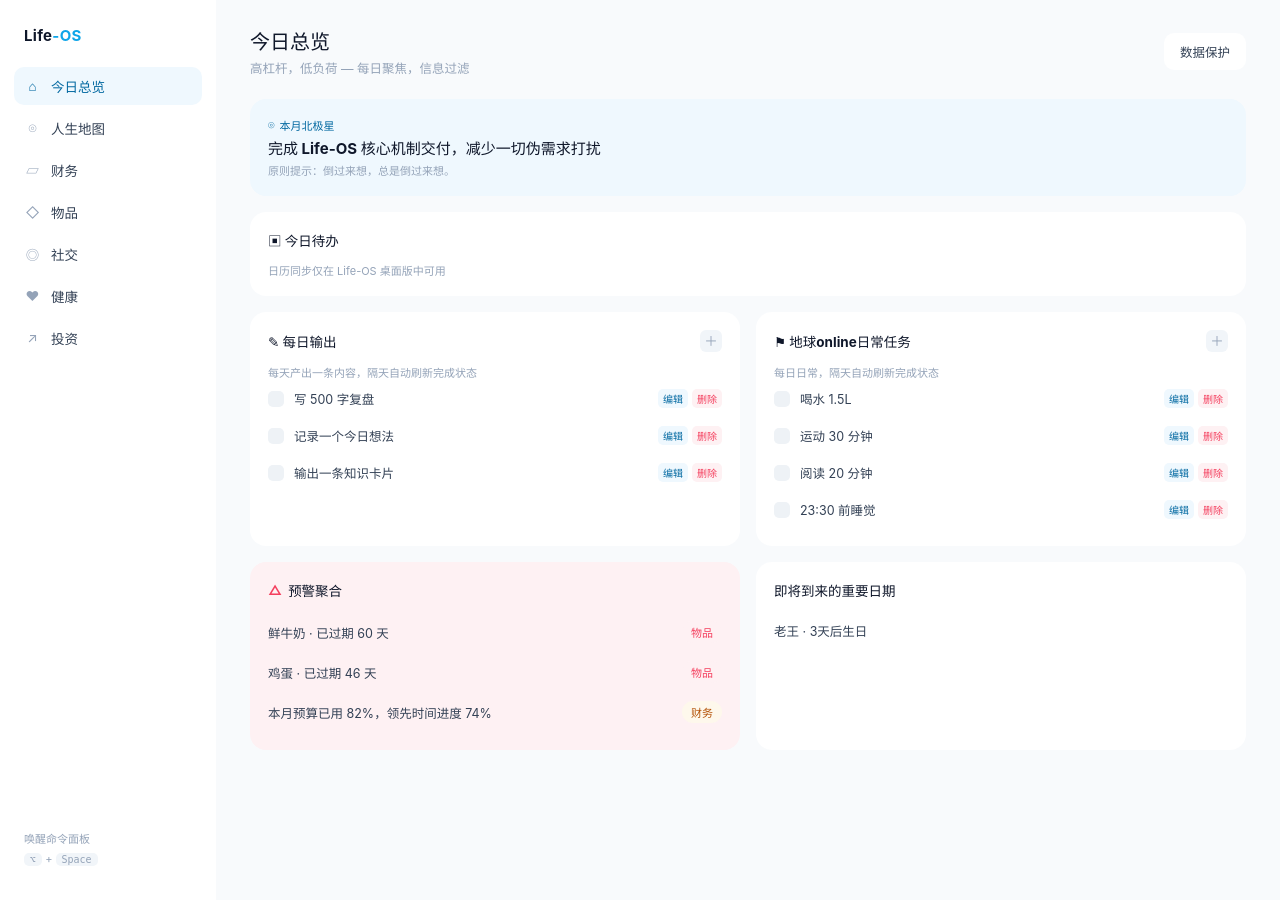
Test: renders compass principles and accepts a validated local principle draft
Step 1. Click the button "⌾ 人生地图" → (108, 128), box [14,109,202,147]
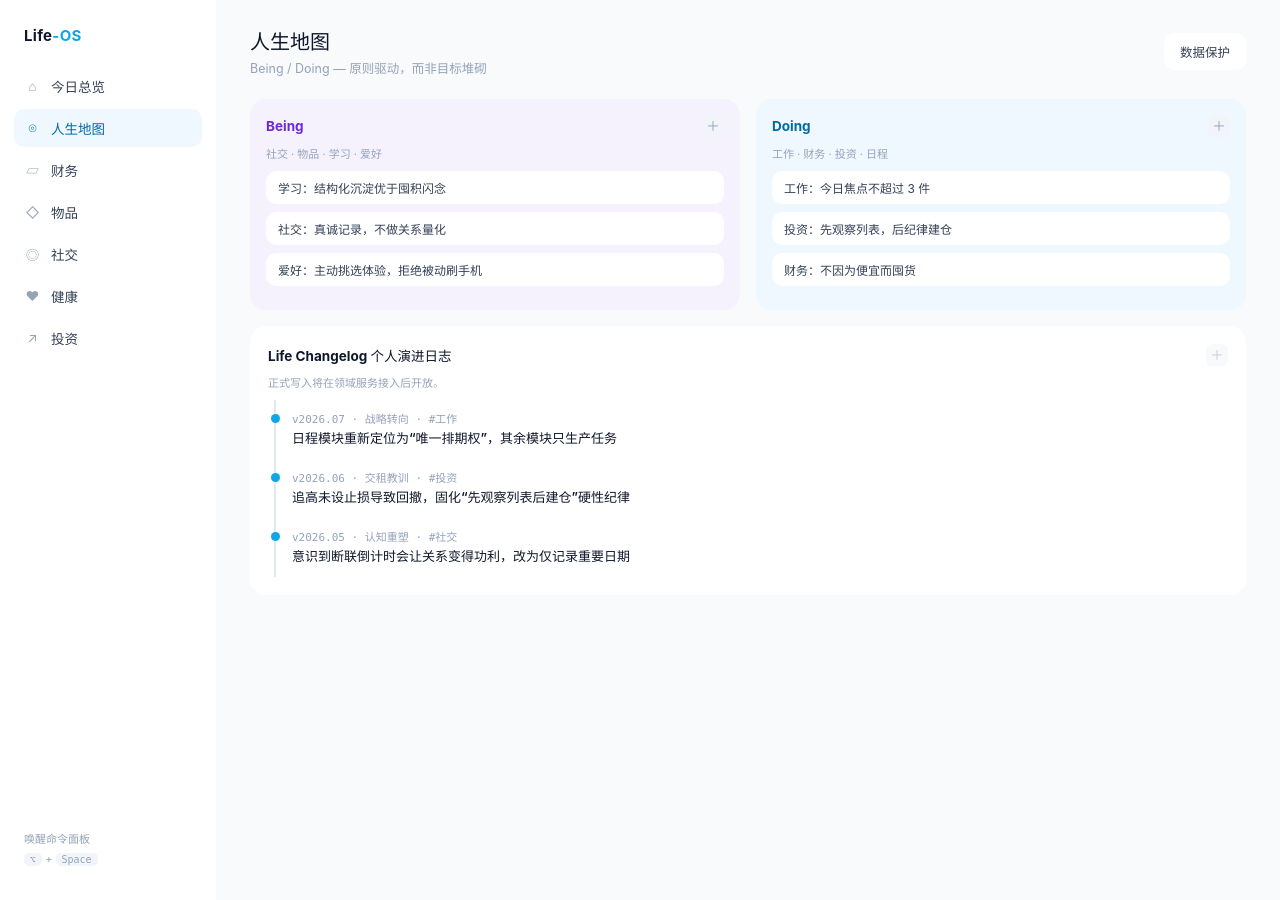
Expected: the heading "Being ＋" is shown, [266,115,724,137]
Step 2. Click the button named "新增 Being 原则" → (713, 126), box [702,115,724,137]
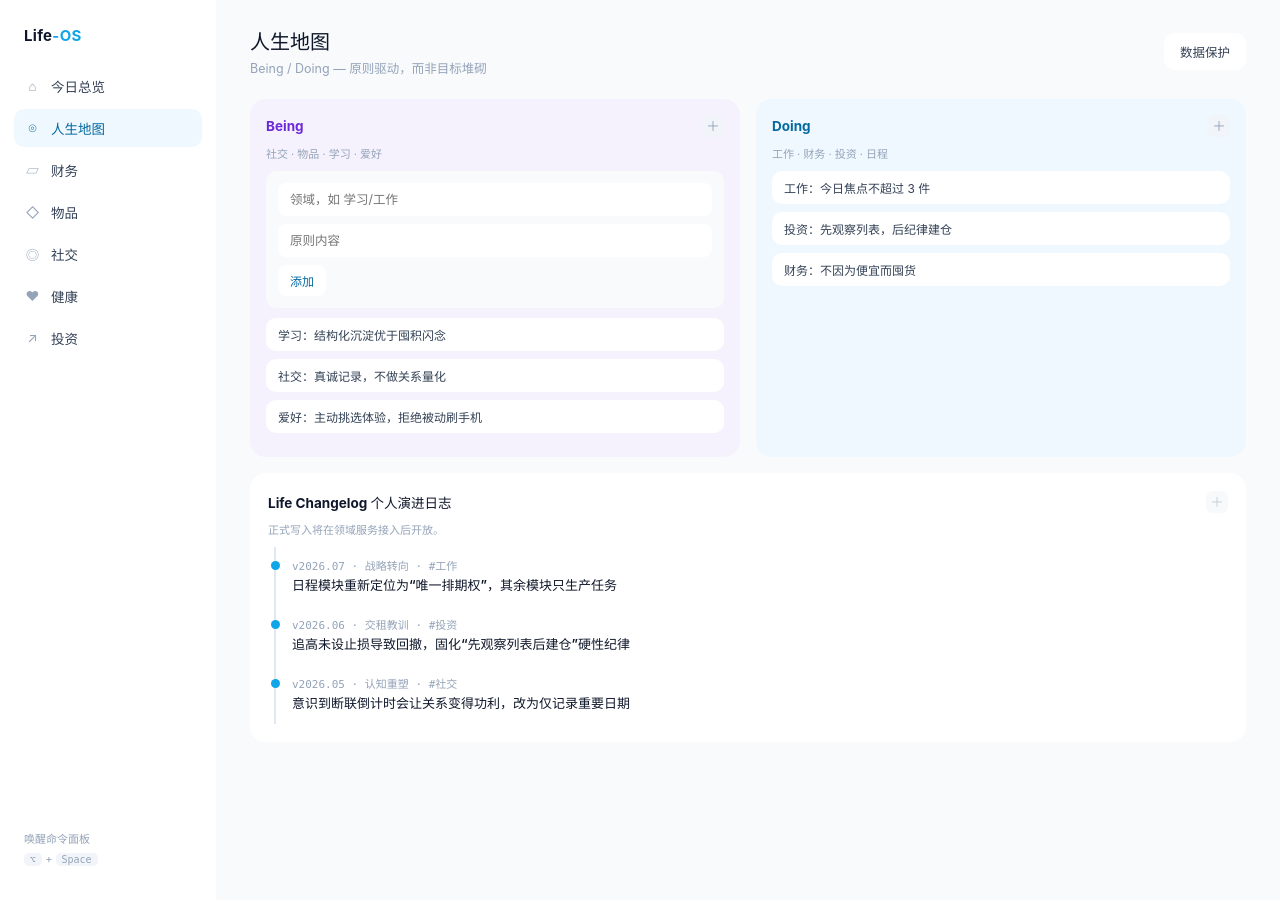
Step 3. Type "学习" into the field with placeholder "领域，如 学习/工作" → (495, 200), box [278,183,712,216]
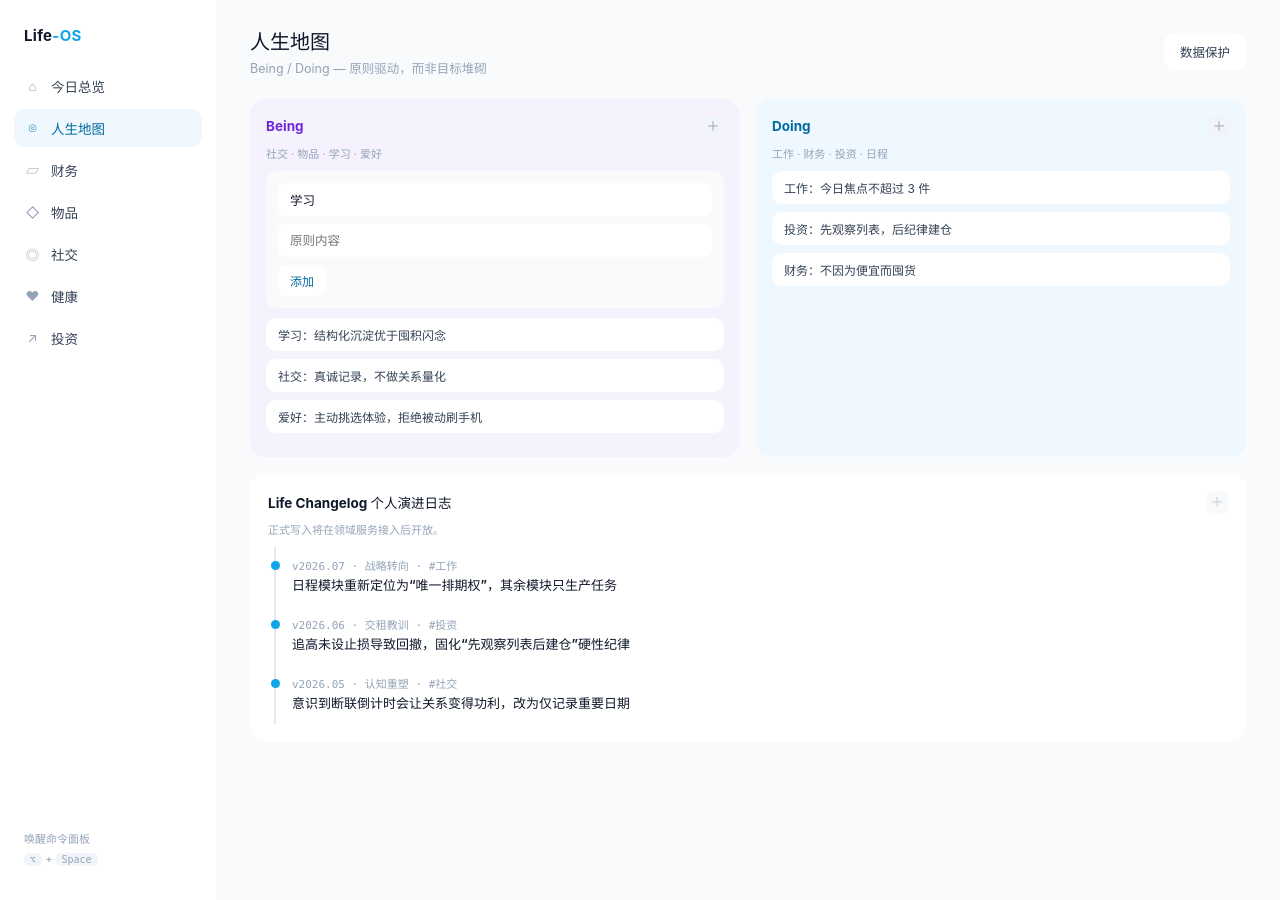
Step 4. Type "先输出再收集" into the field with placeholder "原则内容" → (495, 240), box [278,224,712,257]
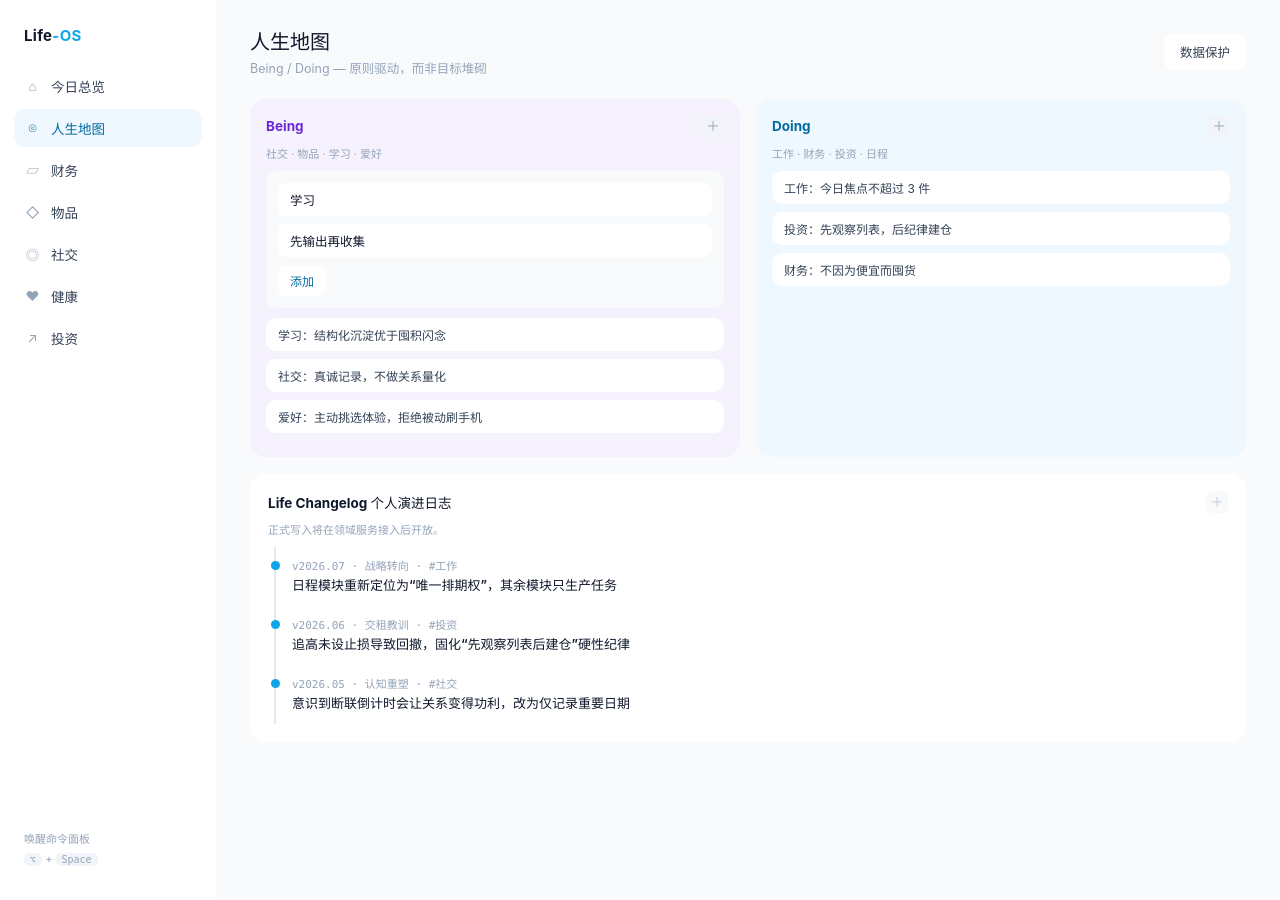
Step 5. Click the button "添加" → (302, 280), box [278,265,326,296]
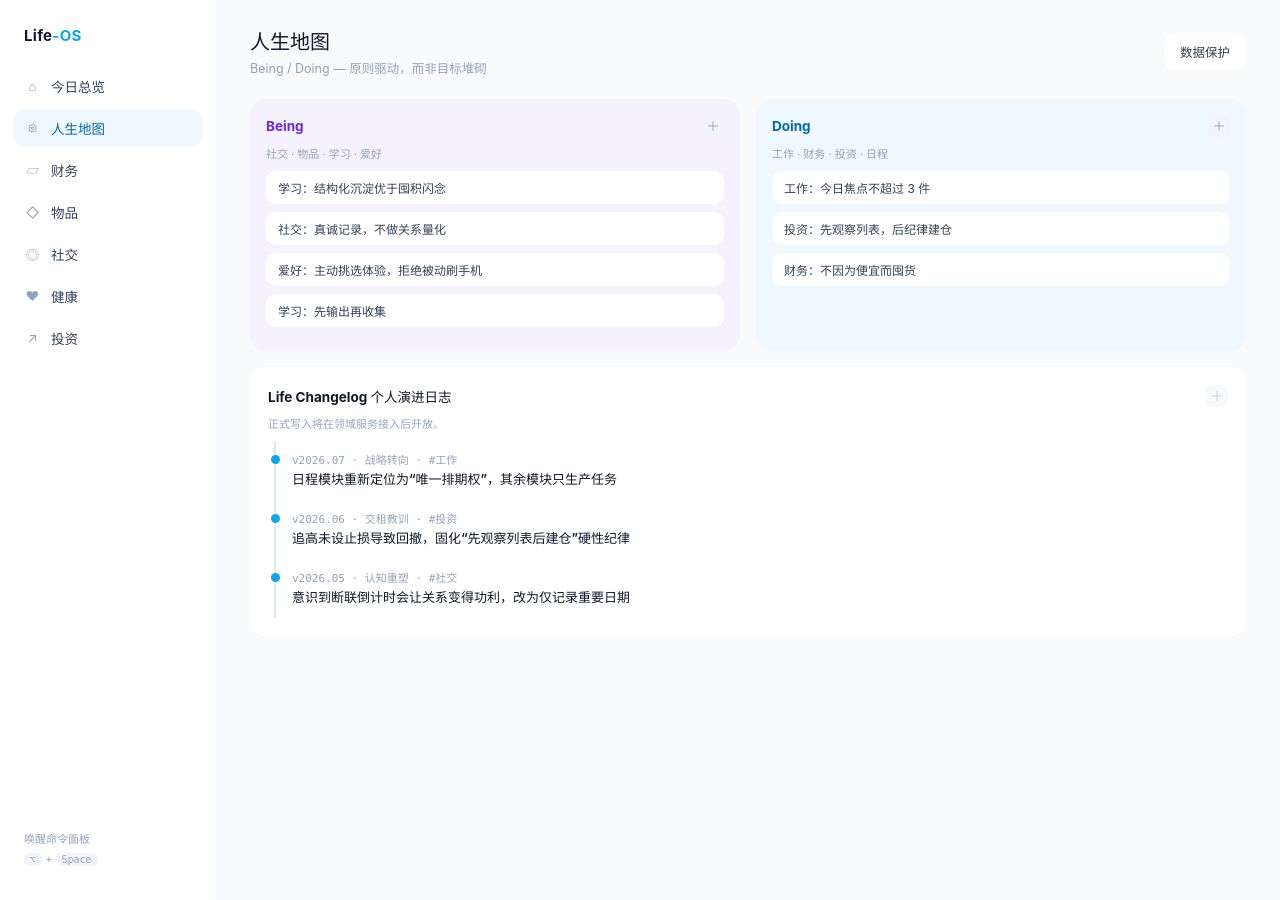
Expected: the text "学习：先输出再收集" is shown, [266,294,724,327]
